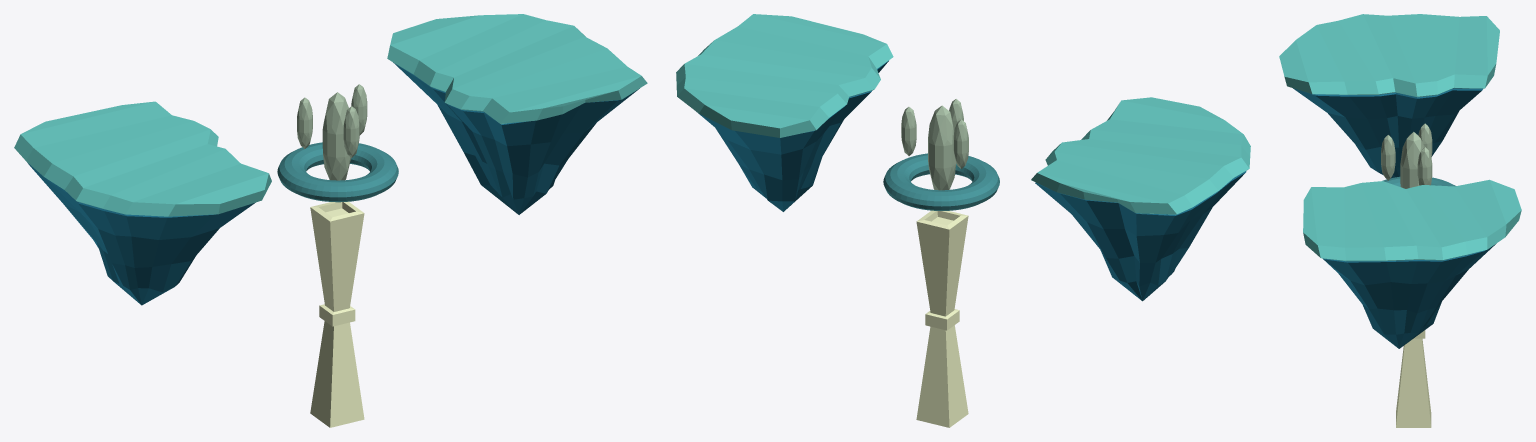
Rendered from Arena_nova_de_novo.fbx.
3 renders of one model, left to right at view 1: azimuth 30°, elevation 25°; view 2: azimuth 150°, elevation 25°; view 3: azimuth 270°, elevation 25°, orthographic. The views are drawn at different scales.
Parts seen in each view (by area): view 1: Vert.004, Vert.005, Vert.002, Vert.003, Cube, Torus, Cristais, Cristais.004, Cristais.003; view 2: Vert.005, Vert.004, Vert.003, Cube, Vert.002, Torus, Cristais, Cristais.002, Cristais.003; view 3: Vert.004, Vert.005, Vert.002, Vert.003, Cube, Cristais, Cristais.004, Cristais.002, Cristais.003, Torus.
Boxes of the visible parts, x1,y1,x2,y2 form: Vert.004: [14, 101, 271, 216]; Vert.005: [387, 14, 647, 124]; Vert.002: [393, 62, 639, 214]; Vert.003: [27, 162, 255, 305]; Cube: [310, 201, 364, 427]; Torus: [277, 142, 398, 202]; Cristais: [322, 92, 350, 180]; Cristais.004: [343, 106, 359, 157]; Cristais.003: [297, 97, 312, 148]; Vert.005: [676, 14, 893, 137]; Vert.004: [1031, 97, 1250, 214]; Vert.003: [1035, 171, 1246, 301]; Cube: [916, 210, 968, 427]; Vert.002: [698, 60, 888, 211]; Torus: [883, 153, 999, 210]; Cristais: [928, 105, 956, 190]; Cristais.002: [901, 107, 916, 155]; Cristais.003: [953, 119, 968, 168]; Vert.004: [1279, 14, 1499, 97]; Vert.005: [1303, 179, 1521, 261]; Vert.002: [1323, 243, 1496, 348]; Vert.003: [1293, 88, 1482, 178]; Cube: [1396, 330, 1431, 427]; Cristais: [1400, 132, 1424, 188]; Cristais.004: [1381, 135, 1395, 180]; Cristais.002: [1417, 147, 1432, 185]; Cristais.003: [1418, 123, 1432, 157]; Torus: [1382, 176, 1455, 186].
Size of the model in its own units: 14097 by 7895 by 6007.
